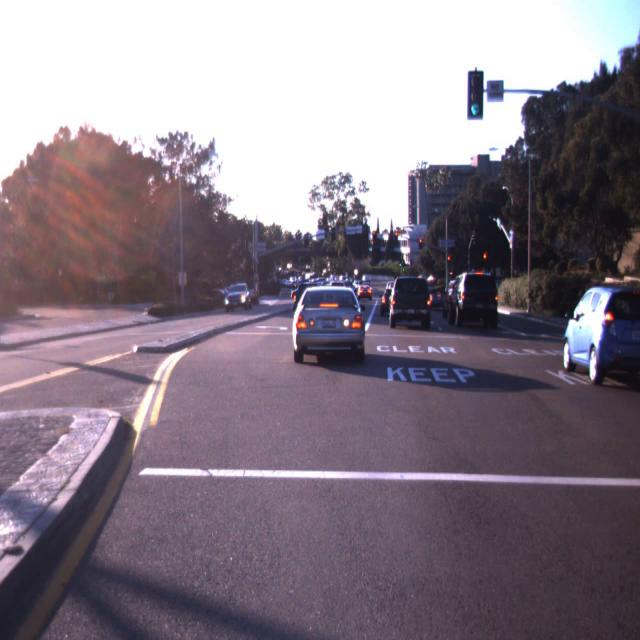kirmizi: (419, 237, 423, 250)
yesil: (468, 67, 484, 120)
